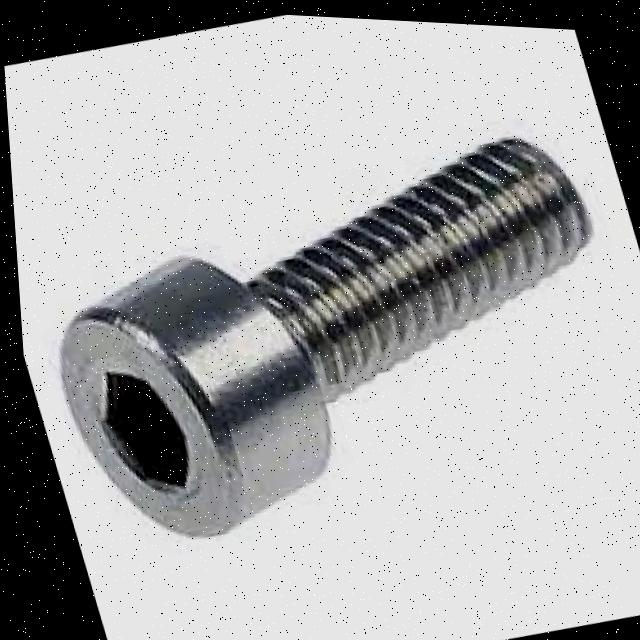Hex Socket Allen: (39, 289, 250, 563)
